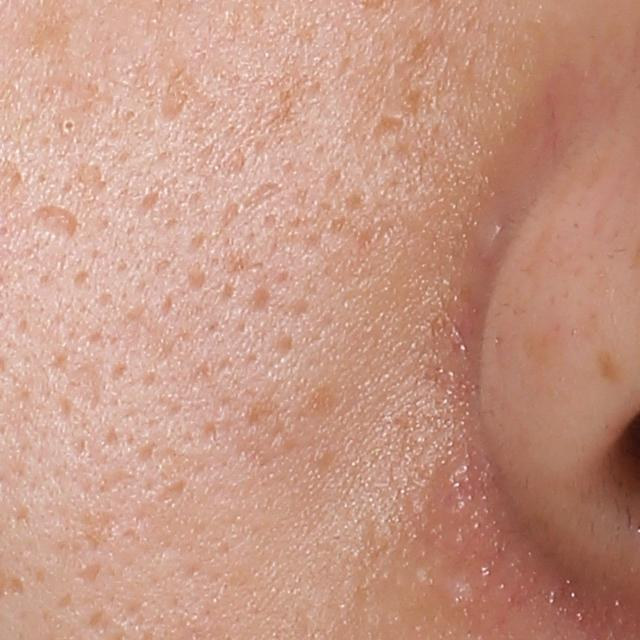atrophic_scar: (58, 358, 109, 416), (236, 177, 289, 218), (365, 112, 412, 154), (31, 205, 89, 233), (75, 162, 112, 201), (152, 479, 190, 507), (247, 286, 272, 318), (73, 560, 101, 580)
comedo: (59, 114, 81, 135)
melasma: (590, 344, 636, 382)
